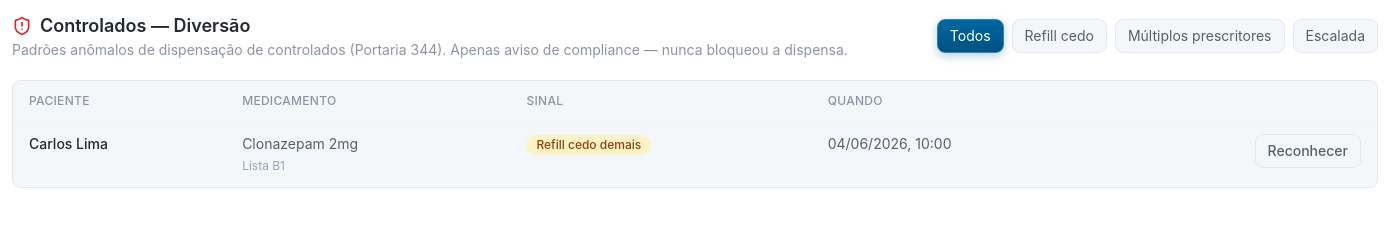
Test case: ControladosPage › acknowledges an alert and removes it
This screenshot has width=1390, height=240.
Expected: the text "Carlos Lima" is shown, [13,122,226,186]
Step 1. Click the button "Reconhecer" → x=1308, y=151, box [1255,134,1361,168]
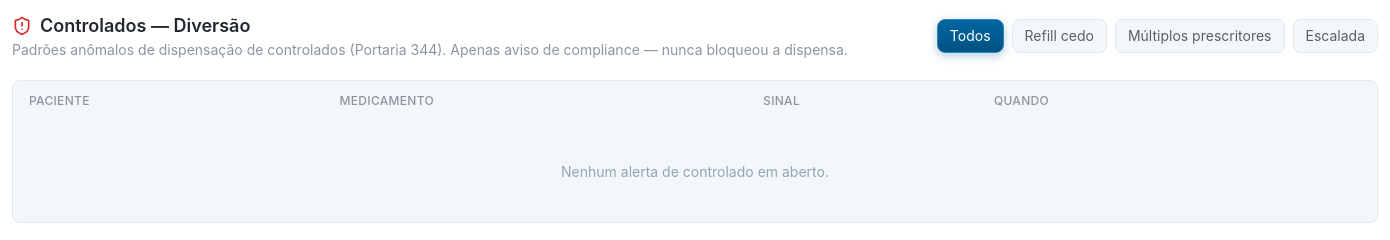
Expected: the text "Carlos Lima" is gone
Expected: the text "Nenhum alerta de controlado em aberto." is shown, [13,122,1377,222]
